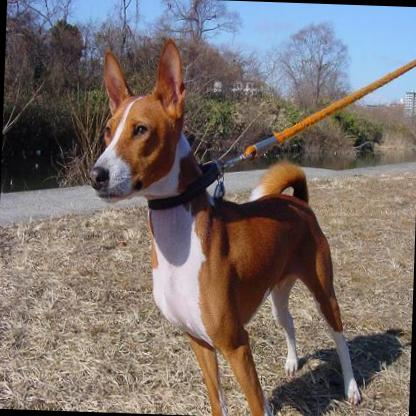basenji: (83, 32, 371, 416)
